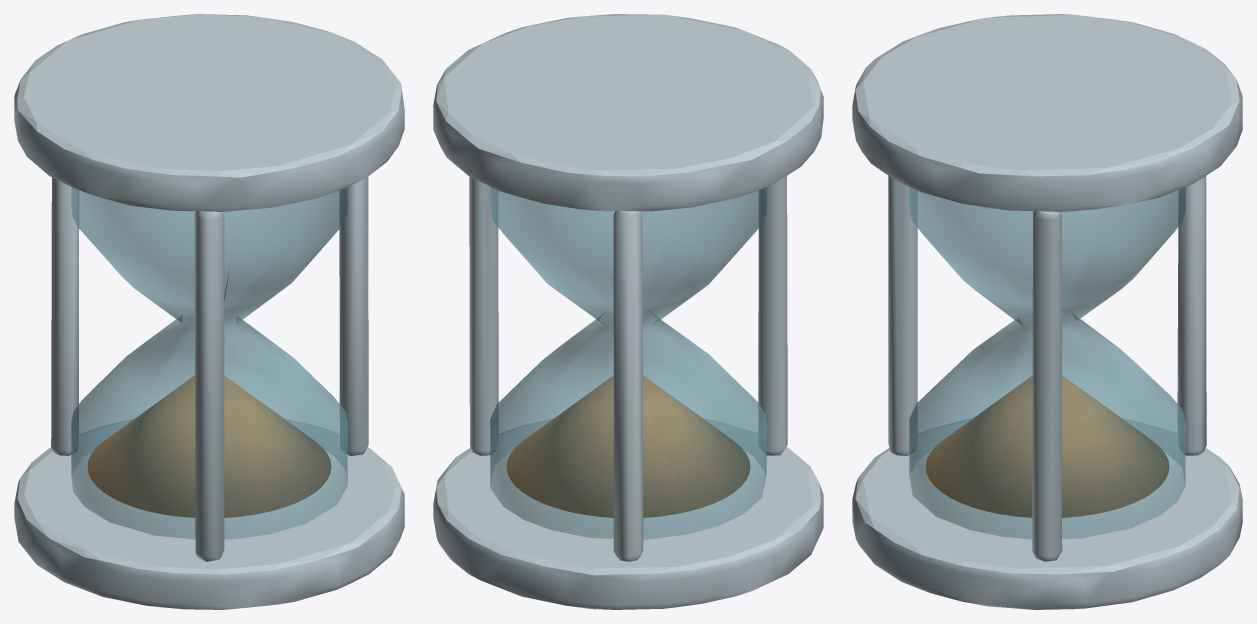
The model's file is relic_04_low.glb.
3 renders of one model, left to right at view 1: azimuth 30°, elevation 25°; view 2: azimuth 150°, elevation 25°; view 3: azimuth 270°, elevation 25°, orthographic.
Parts seen in each view (by area): view 1: Antique_silver, Smoked_crystal, Brushed_gold; view 2: Antique_silver, Smoked_crystal, Brushed_gold; view 3: Antique_silver, Smoked_crystal, Brushed_gold.
Boxes of the visible parts, bbox=[...] form: Antique_silver: bbox=[14, 14, 404, 609]; Smoked_crystal: bbox=[71, 187, 347, 539]; Brushed_gold: bbox=[87, 270, 331, 517]; Antique_silver: bbox=[433, 14, 823, 609]; Smoked_crystal: bbox=[490, 186, 766, 539]; Brushed_gold: bbox=[506, 375, 750, 517]; Antique_silver: bbox=[852, 14, 1242, 609]; Smoked_crystal: bbox=[909, 187, 1185, 539]; Brushed_gold: bbox=[925, 375, 1169, 517].
Bounding box in the file's own units: 0.4801 × 0.595 × 0.4801.
3 materials, 1 textured.
